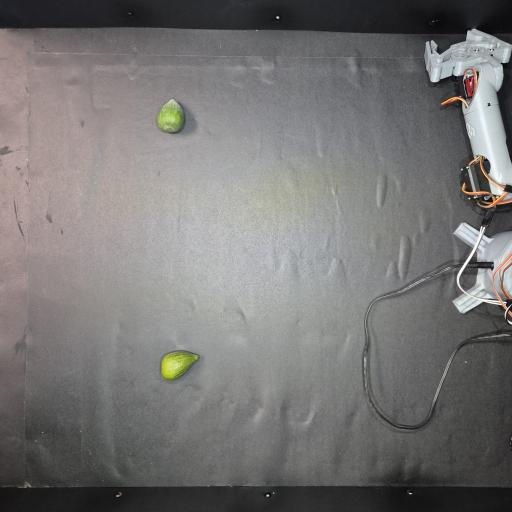higo: (161, 351, 199, 380), (157, 99, 185, 132)
